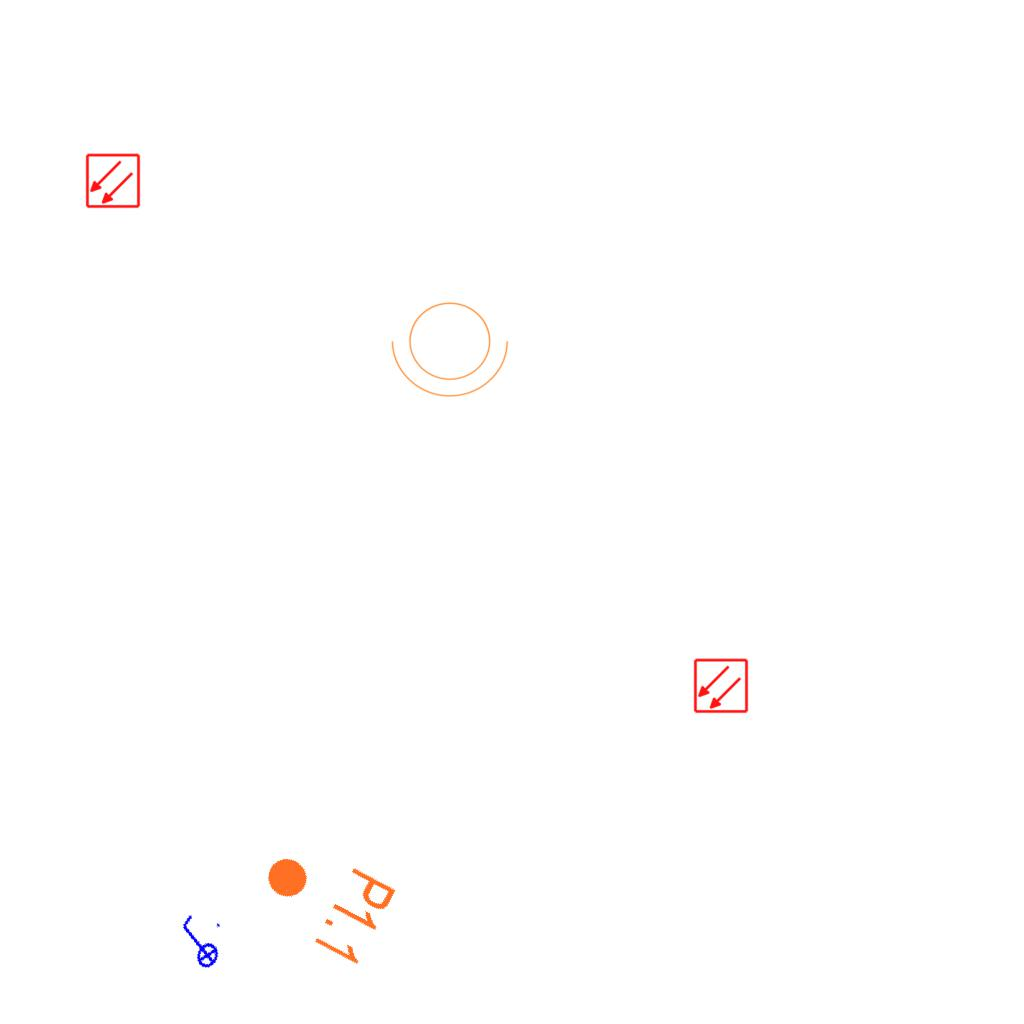Ausschalter_beleuchtet: (166, 908, 230, 978)
Downlight_LED_Einbauleuchten_Flur: (244, 828, 401, 972)
RMO_Rauchmelder_optischer: (85, 153, 141, 209), (693, 658, 749, 714)
Scheinwerfer_fuer_Alarmbeleuchtung: (387, 290, 519, 402)
